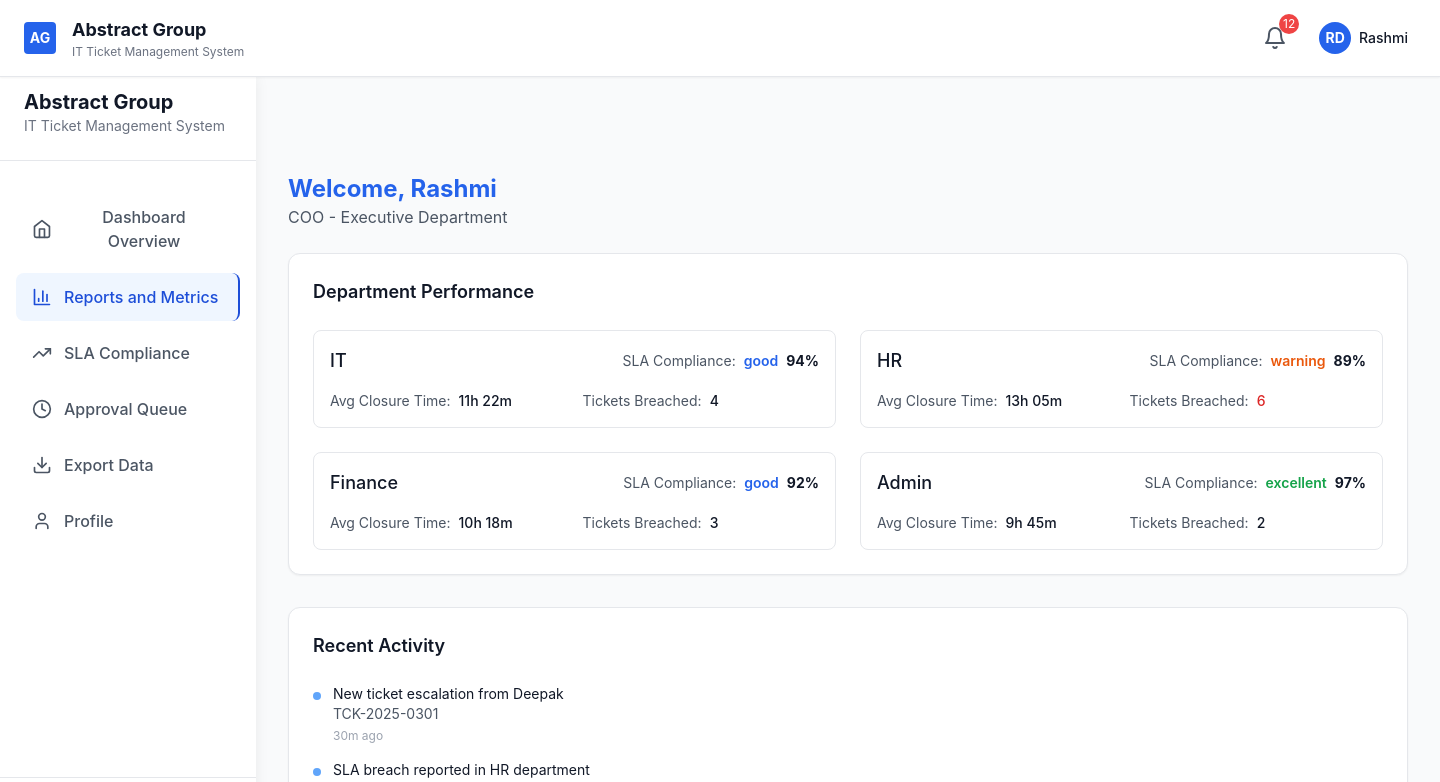
Test: COODashboard - unit tests › opens notifications panel and shows unread count
Note: click the notifications bell (first button in header) — it's safe since DOM is deterministic
Click the button "12".
click(1275, 38)  # box [1255, 18, 1295, 58]
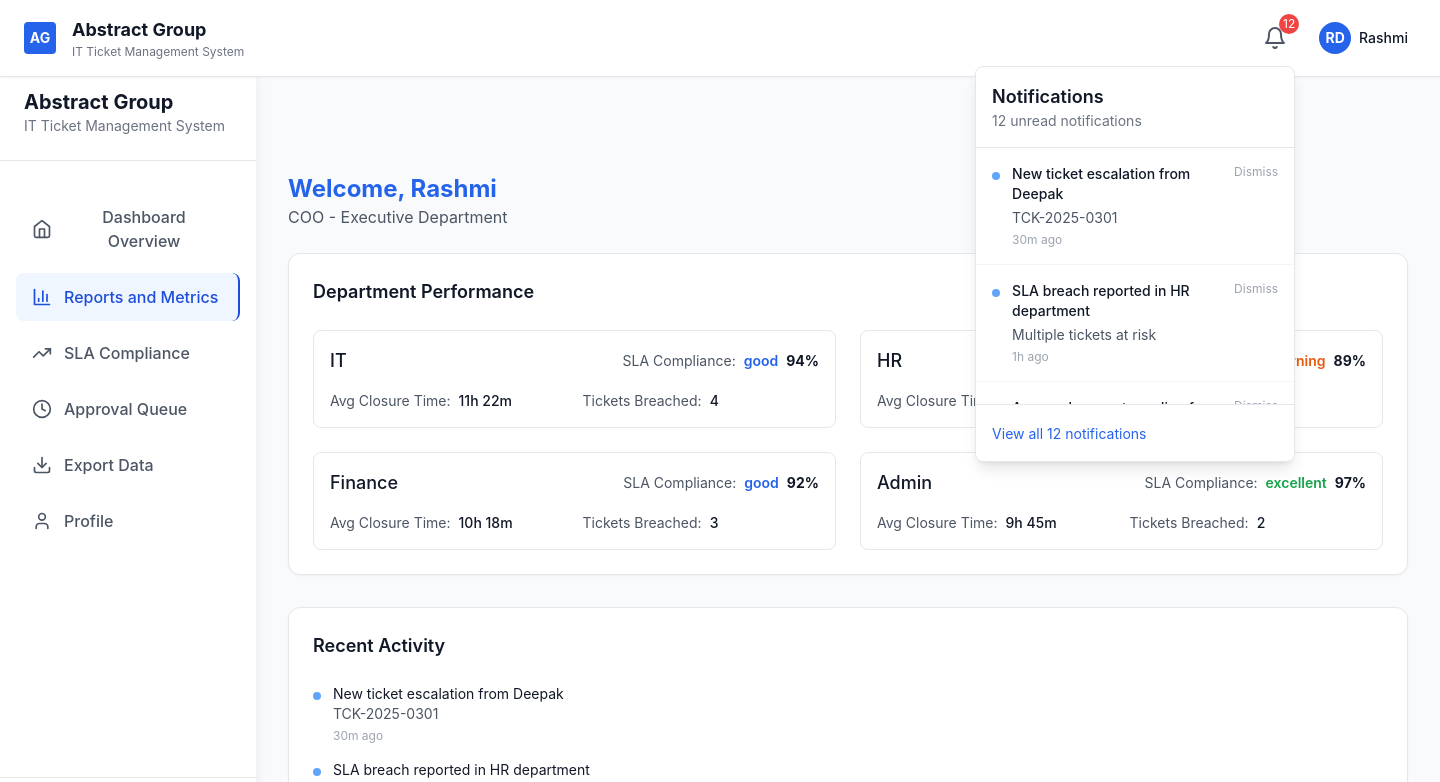
Now the text "12 unread notifications" is shown, box [992, 112, 1142, 129]
